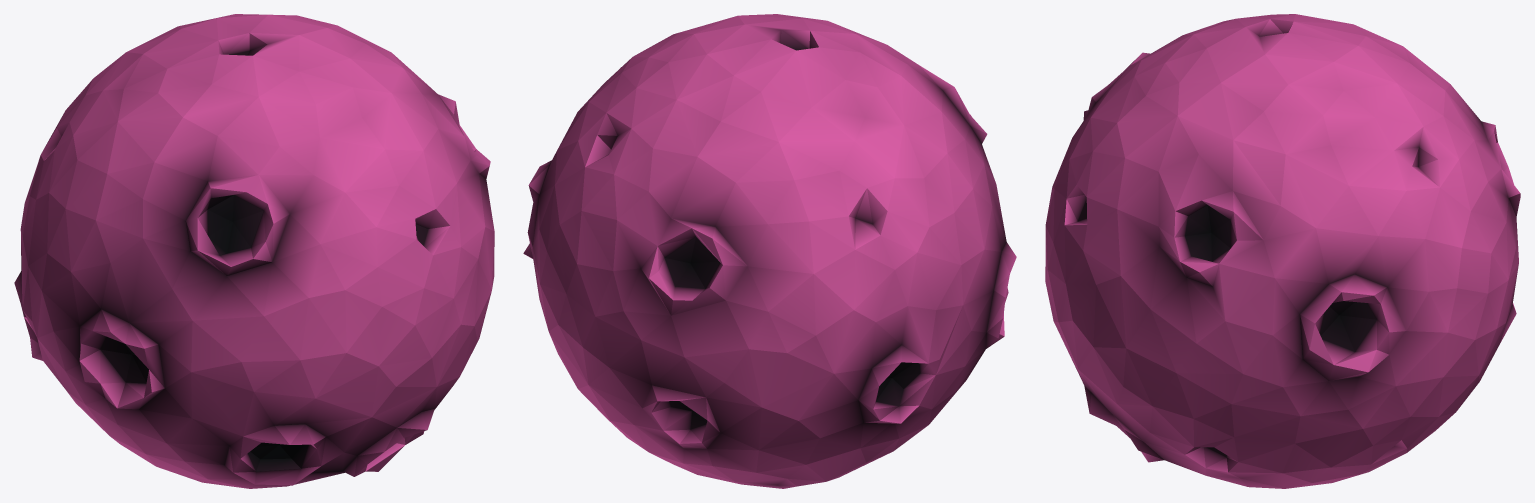
Rendered from moon7.fbx.
3 renders of one model, left to right at view 1: azimuth 30°, elevation 25°; view 2: azimuth 150°, elevation 25°; view 3: azimuth 270°, elevation 25°, orthographic.
Parts seen in each view (by area): view 1: attribblur1; view 2: attribblur1; view 3: attribblur1.
Part boxes in pixels (x1=…): attribblur1: x1=14, y1=14, x2=494, y2=488; attribblur1: x1=523, y1=14, x2=1016, y2=488; attribblur1: x1=1045, y1=14, x2=1520, y2=488.
Bounding box in the file's own units: 0.7787 × 0.7635 × 0.7614.
